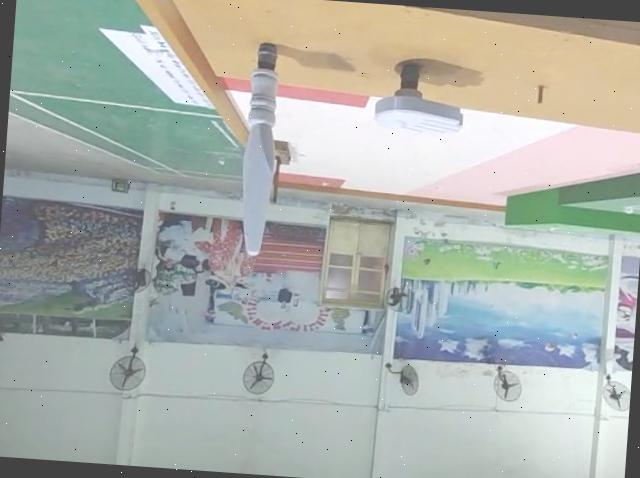Hand: (370, 61, 465, 140)
Sph: (232, 35, 283, 259)
